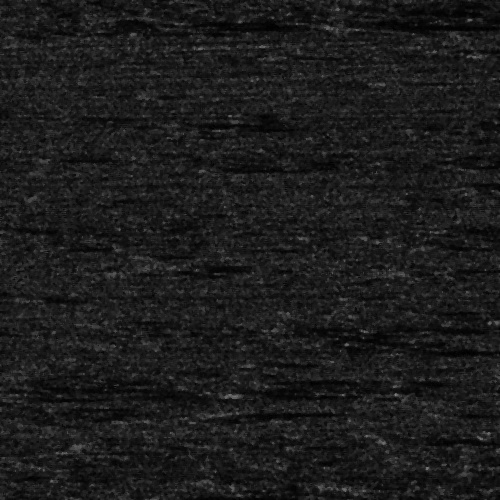object: (171, 404, 264, 417), (131, 492, 194, 500), (300, 22, 341, 27), (494, 316, 500, 319), (494, 13, 500, 16)
shadow: (217, 404, 332, 417), (163, 492, 271, 500), (320, 22, 487, 27)
